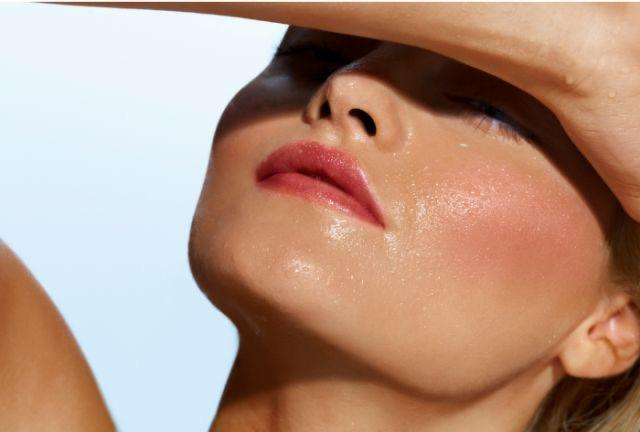Oily-Skin: (222, 193, 374, 308), (400, 222, 509, 350), (407, 128, 510, 221), (268, 84, 328, 189), (513, 220, 588, 289), (529, 161, 583, 244)
